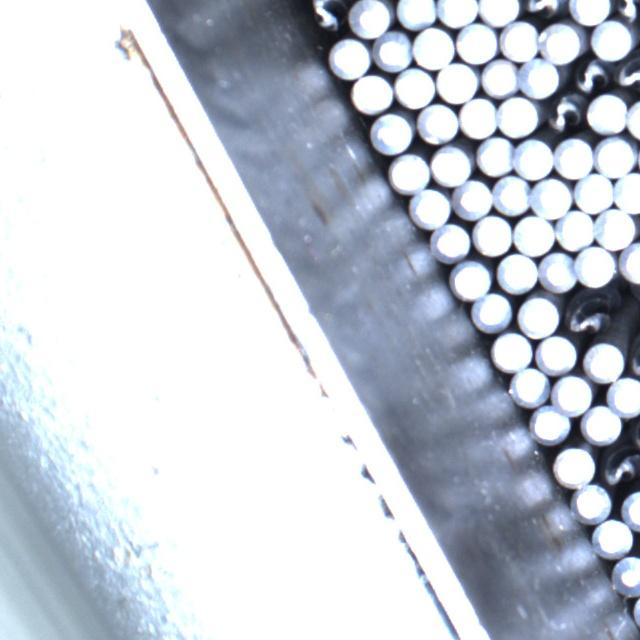tool: (345, 0, 393, 42), (539, 20, 585, 62), (411, 23, 454, 67), (370, 109, 413, 153), (552, 443, 595, 487), (580, 340, 623, 384), (511, 136, 554, 179), (594, 134, 637, 177), (327, 35, 370, 78), (594, 206, 636, 250), (429, 143, 473, 185), (567, 483, 612, 524), (455, 20, 497, 63), (434, 60, 477, 102), (530, 174, 572, 217), (497, 19, 539, 62), (574, 244, 616, 287), (415, 101, 458, 143), (350, 70, 393, 112), (553, 135, 594, 179), (512, 213, 554, 255), (517, 293, 559, 335), (573, 171, 614, 214), (457, 95, 498, 138), (393, 65, 434, 108), (410, 184, 451, 227), (586, 90, 627, 133), (554, 209, 595, 251), (498, 94, 539, 136), (471, 214, 512, 256), (518, 56, 560, 97), (591, 516, 633, 557), (491, 329, 534, 369), (578, 405, 622, 444), (591, 18, 632, 59), (491, 174, 531, 216), (389, 151, 429, 193), (603, 373, 640, 418), (478, 57, 518, 98), (537, 332, 577, 373), (472, 291, 513, 331), (452, 179, 492, 220), (449, 259, 490, 299), (474, 134, 513, 176), (530, 404, 571, 443), (496, 253, 536, 292), (511, 367, 551, 406), (552, 372, 592, 411), (538, 250, 576, 291), (374, 31, 412, 72), (431, 221, 470, 259), (609, 556, 640, 597), (394, 0, 435, 29), (613, 170, 640, 212), (614, 488, 640, 530), (436, 0, 477, 26), (567, 0, 610, 24), (478, 0, 519, 25), (618, 240, 640, 282)
tool_b: (564, 289, 618, 336), (546, 90, 587, 134), (600, 445, 640, 487), (572, 58, 613, 96), (305, 0, 347, 31), (612, 57, 640, 97), (523, 0, 567, 19)
